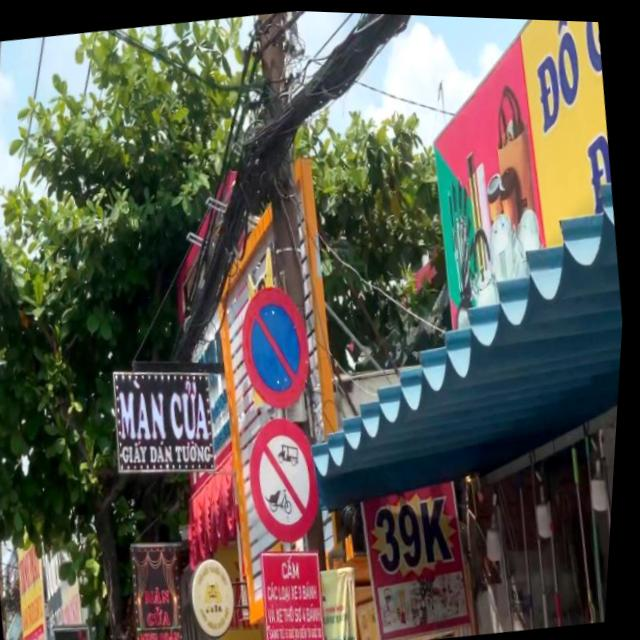Cam do xe: (235, 277, 325, 413)
